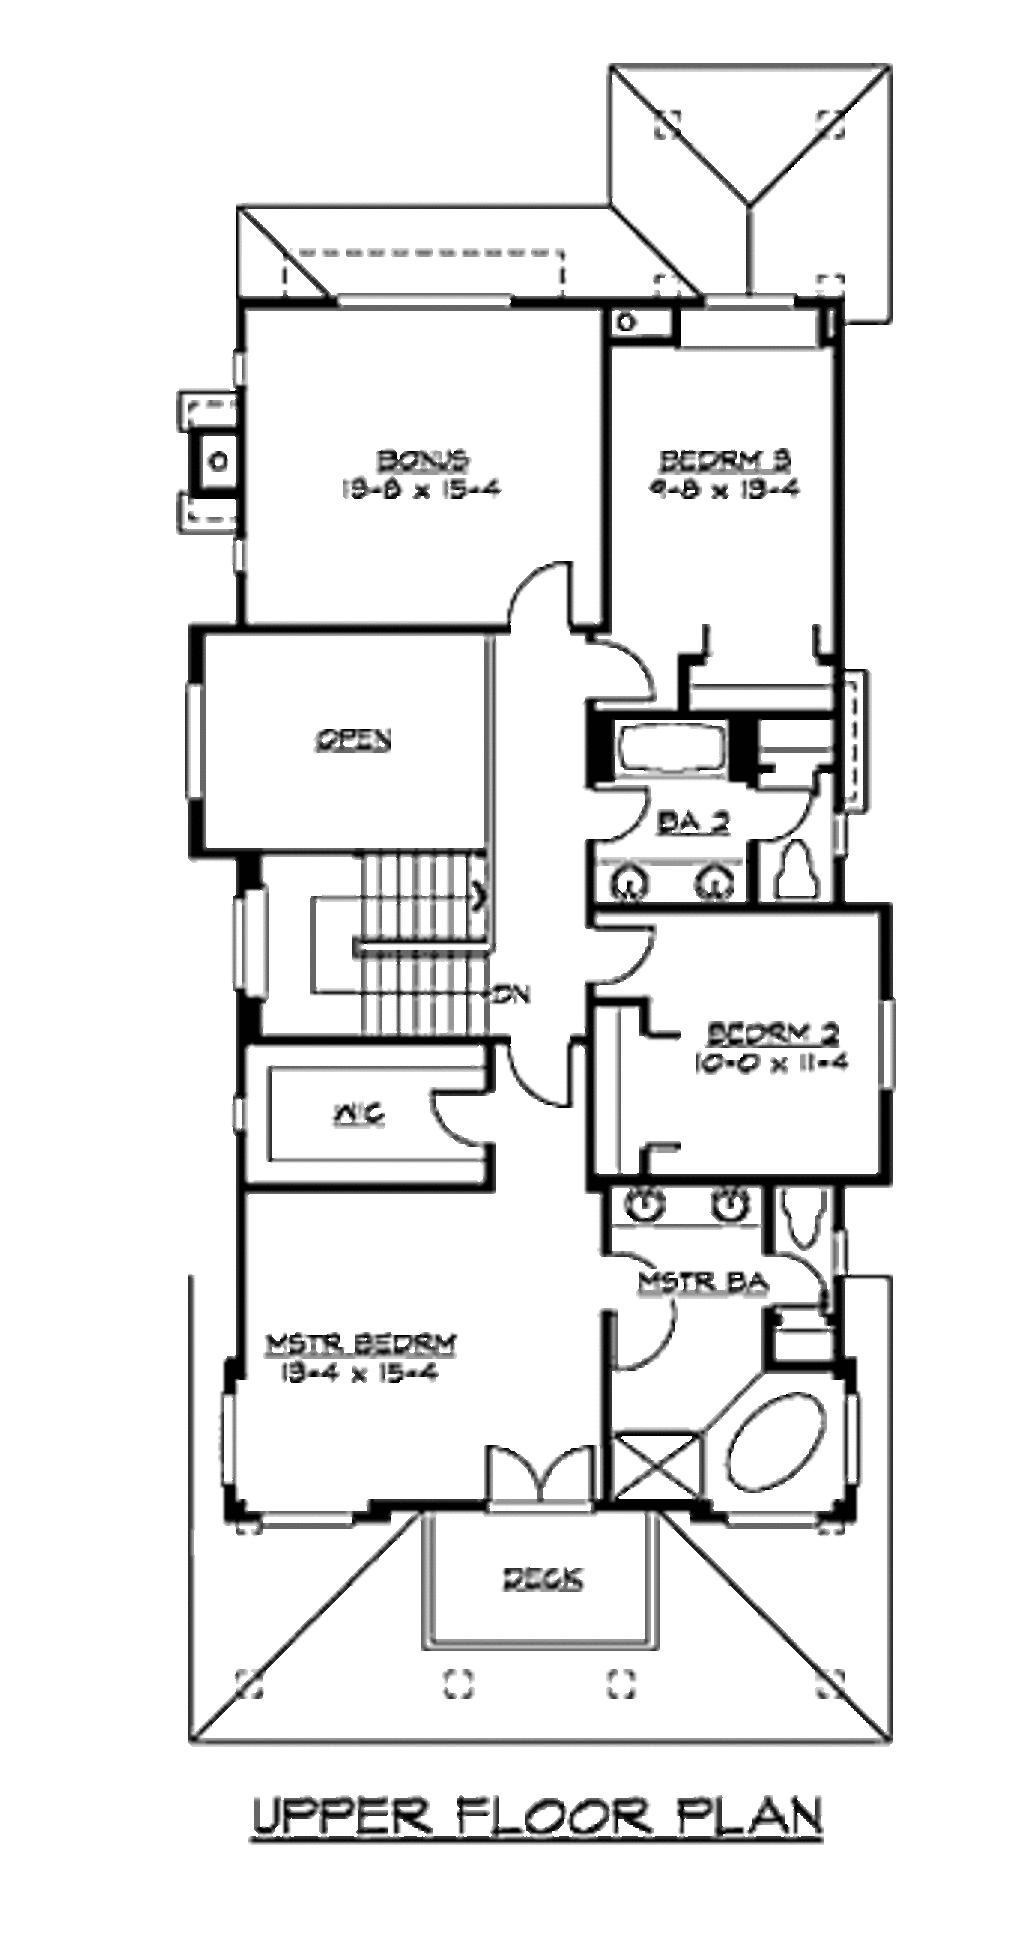door: (463, 1451, 610, 1514), (411, 1064, 509, 1157), (497, 560, 597, 650), (513, 1033, 601, 1125), (601, 1230, 675, 1324), (583, 914, 660, 996), (583, 635, 667, 700), (603, 1312, 687, 1372), (761, 1240, 833, 1309), (585, 781, 653, 842), (746, 782, 817, 840)
large_sink: (769, 1169, 841, 1241), (757, 840, 826, 896)
small_sink: (589, 860, 746, 904), (619, 1186, 758, 1230)
stairs: (269, 843, 509, 1033)
tub: (721, 1384, 853, 1506)
window: (181, 670, 213, 816)
